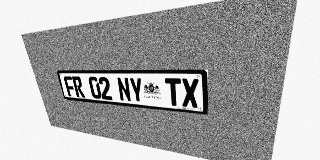0: (88, 77, 102, 99)
2: (98, 77, 112, 100)
F: (63, 76, 76, 97)
N: (116, 77, 132, 102)
R: (72, 76, 85, 98)
T: (165, 78, 182, 106)
X: (181, 78, 199, 108)
Y: (129, 77, 144, 103)
